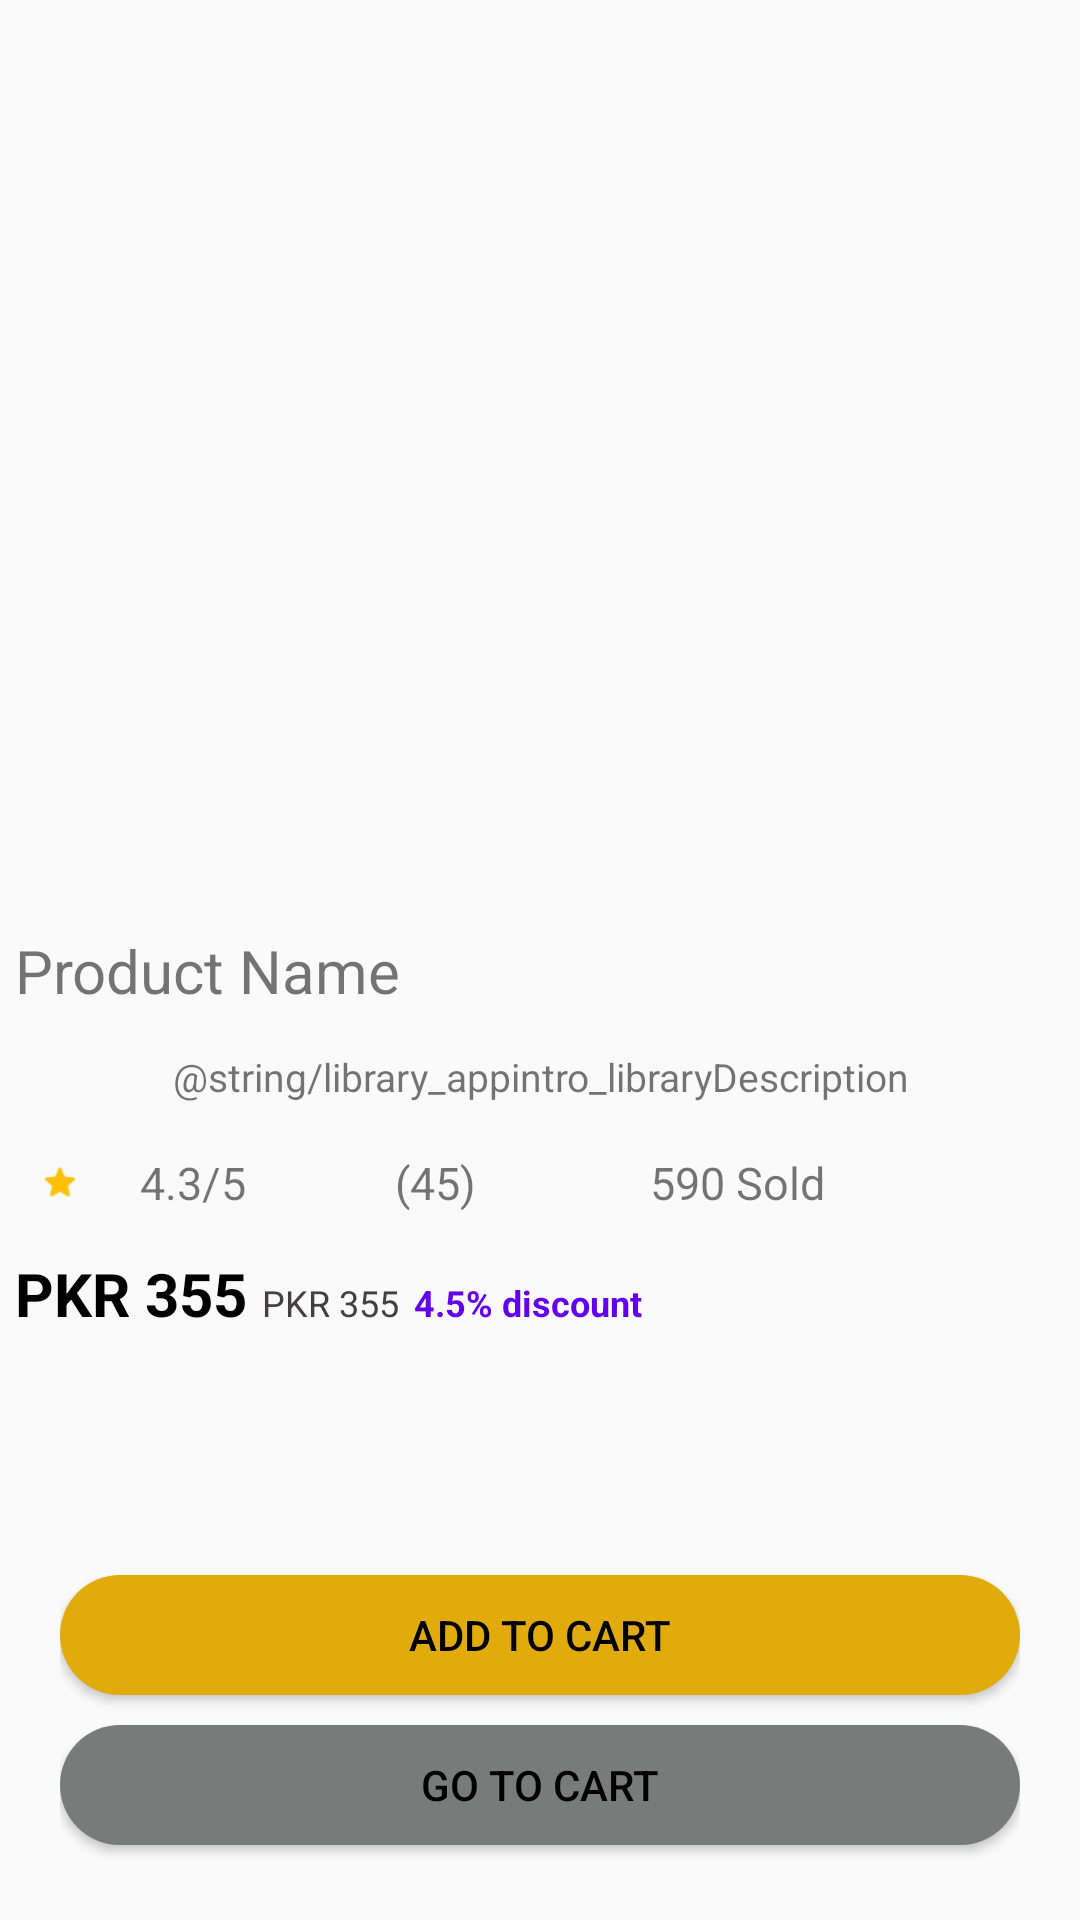

Named icons in this screenshot (1080 x 1920) and their centers, point (x, y):
rating: point (60, 1182)
